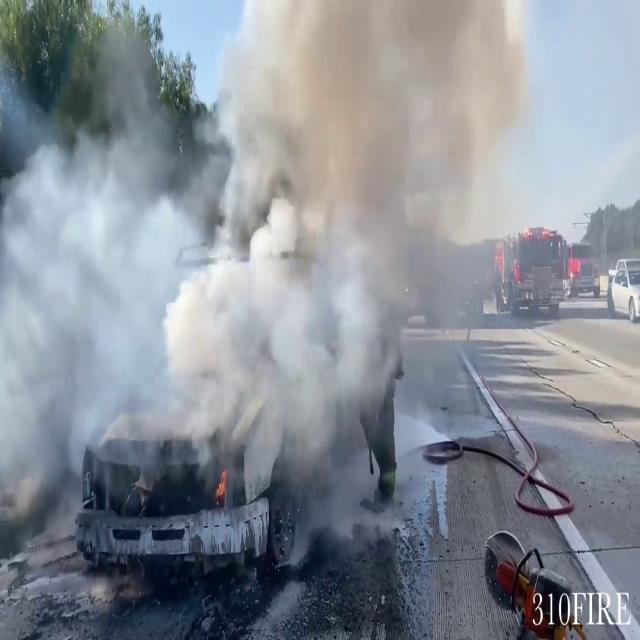Smoke: (0, 0, 584, 515)
